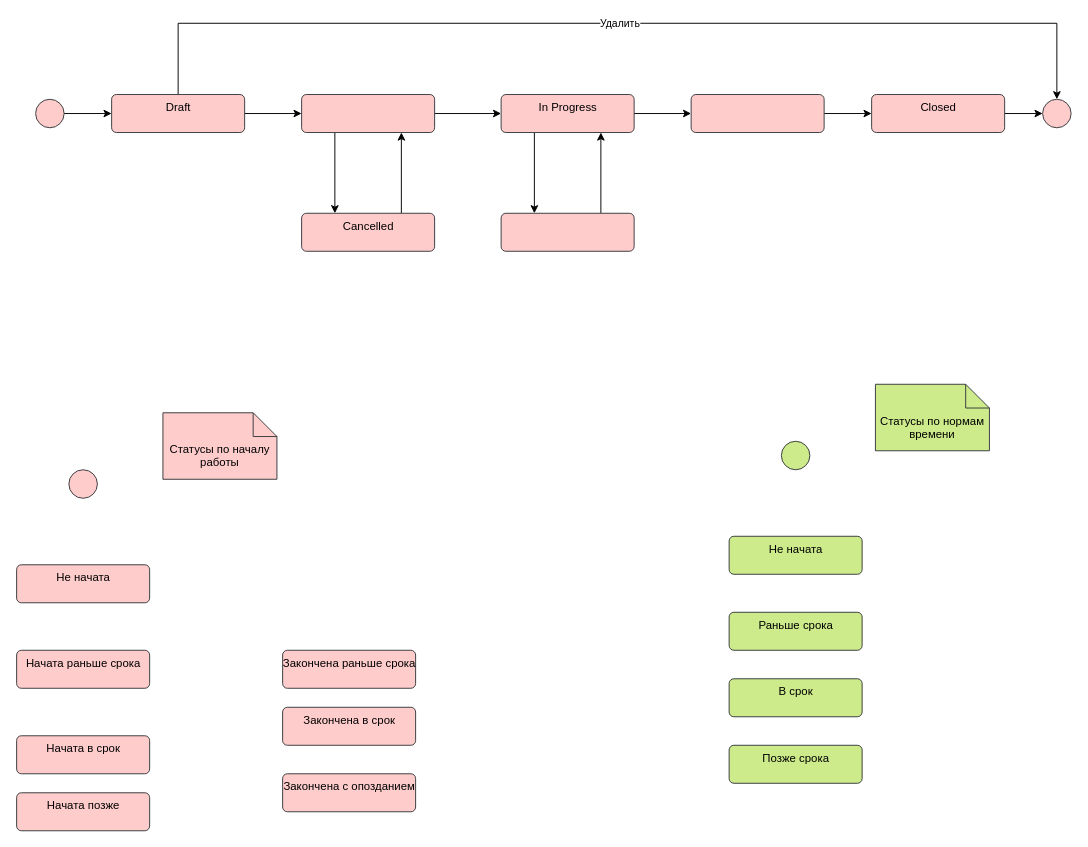
The diagram is 1088 pixels wide and 847 high, and some of its shapes have lost their labels. The centre of each missing label's shape, as x and y in pixels:
Approved: pixel 368 113
Finished: pixel 757 113
Postponed: pixel 567 231
